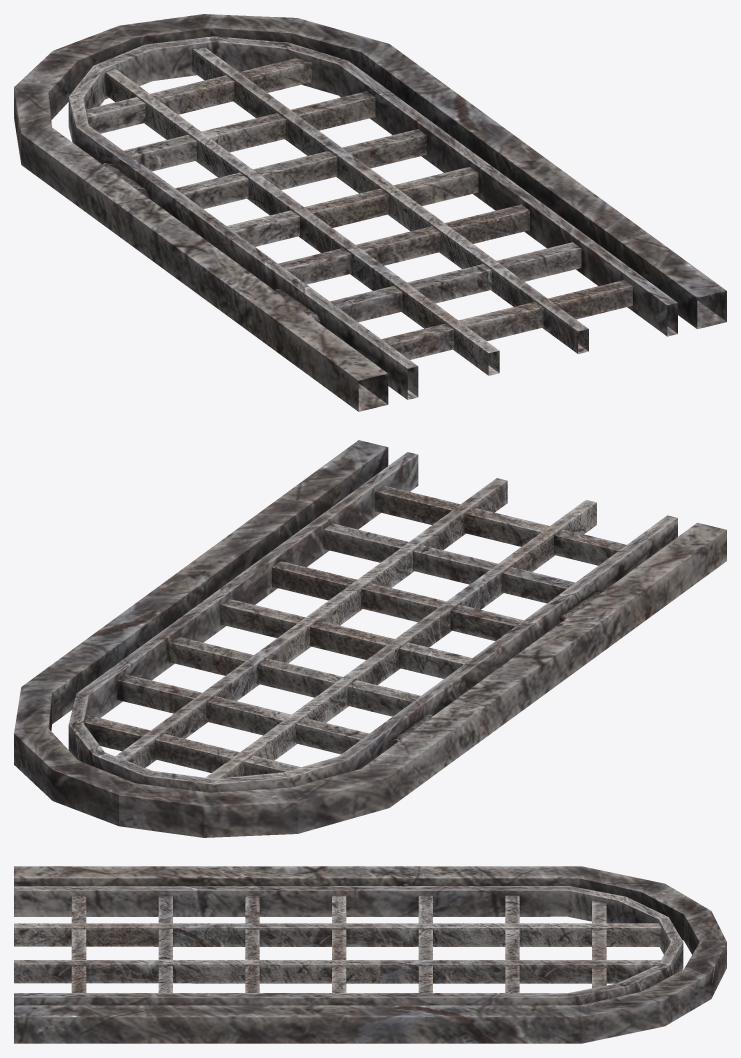
File: Door_a.fbx
3 views of the same model, one above another, from view 1: azimuth 30°, elevation 25°; view 2: azimuth 150°, elevation 25°; view 3: azimuth 270°, elevation 25° (orthographic). The views are drawn at different scales.
Parts seen in each view (by area): view 1: Door_a_i, Door_a; view 2: Door_a_i, Door_a; view 3: Door_a_i, Door_a.
Part boxes in pixels (bbox=[...]): Door_a_i: bbox=[68, 36, 677, 399]; Door_a: bbox=[14, 14, 726, 411]; Door_a_i: bbox=[68, 452, 677, 792]; Door_a: bbox=[14, 440, 726, 837]; Door_a_i: bbox=[14, 886, 683, 1005]; Door_a: bbox=[14, 866, 726, 1043].
Size of the model in its own units: 124 by 10 by 247.
